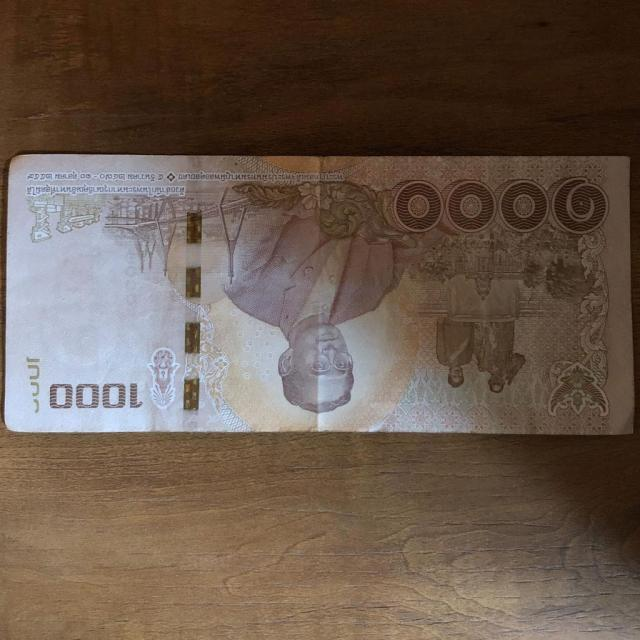THAI1000: (1, 154, 636, 438)
